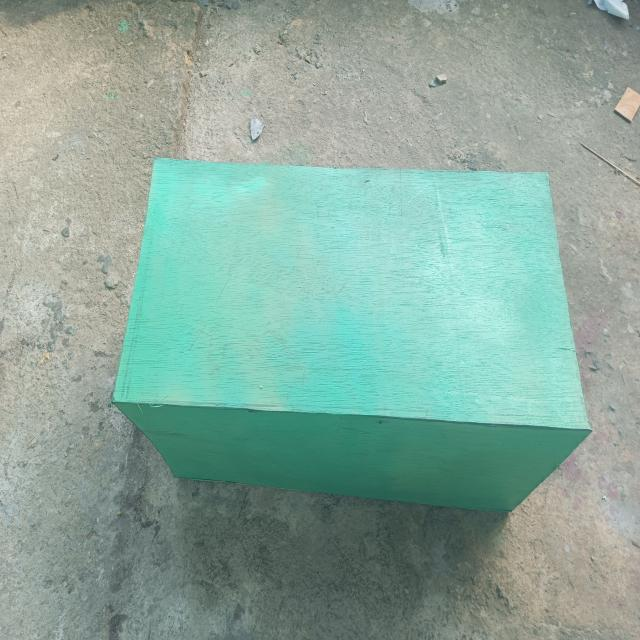green_box: (110, 128, 596, 554)
